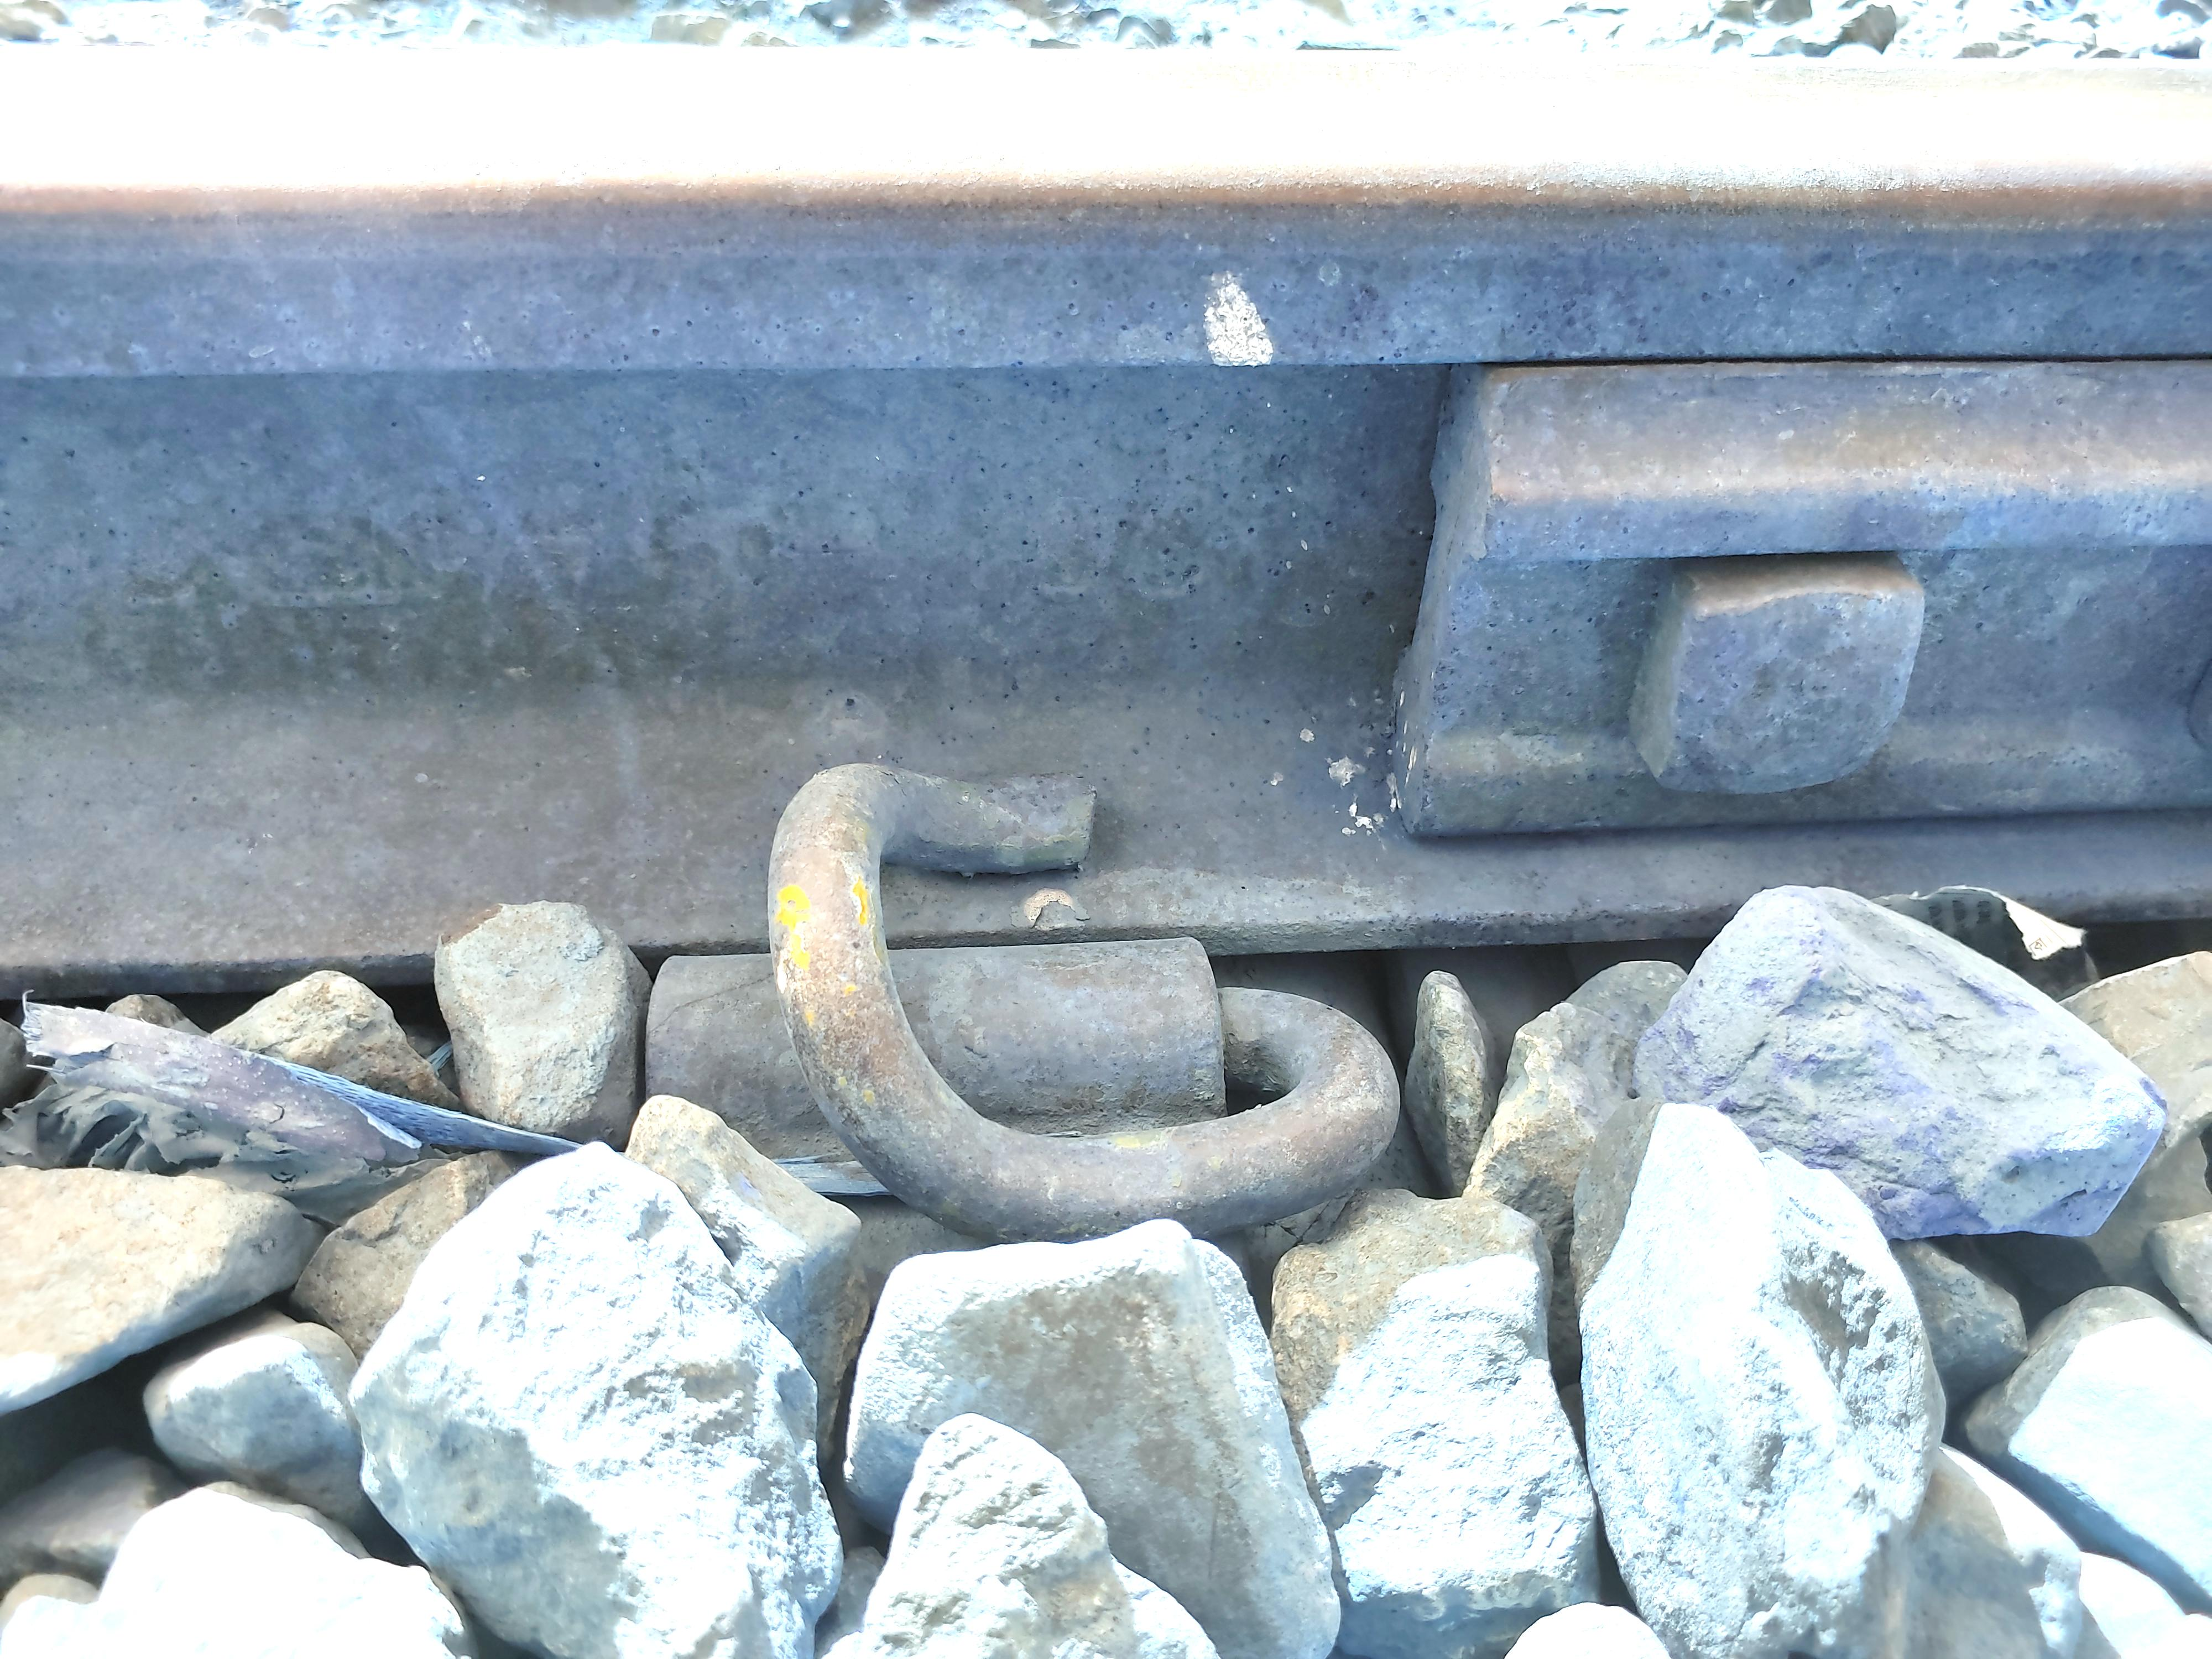error1: (643, 760, 1388, 1197)
